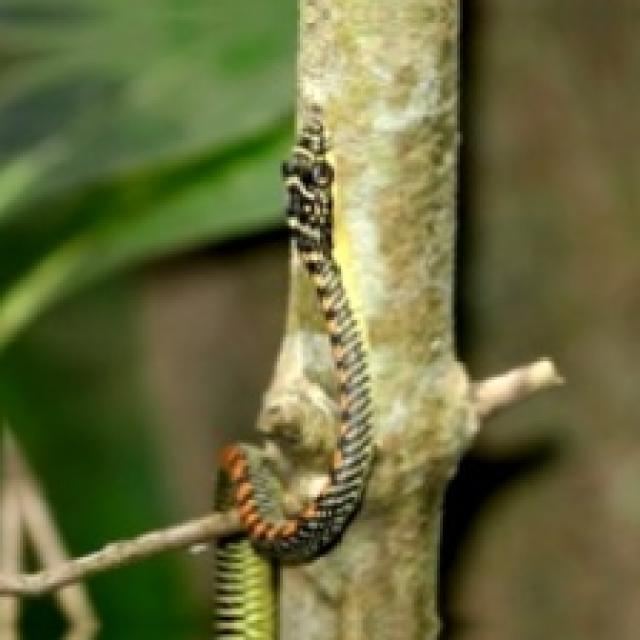paradise tree snake: (214, 106, 371, 637)
